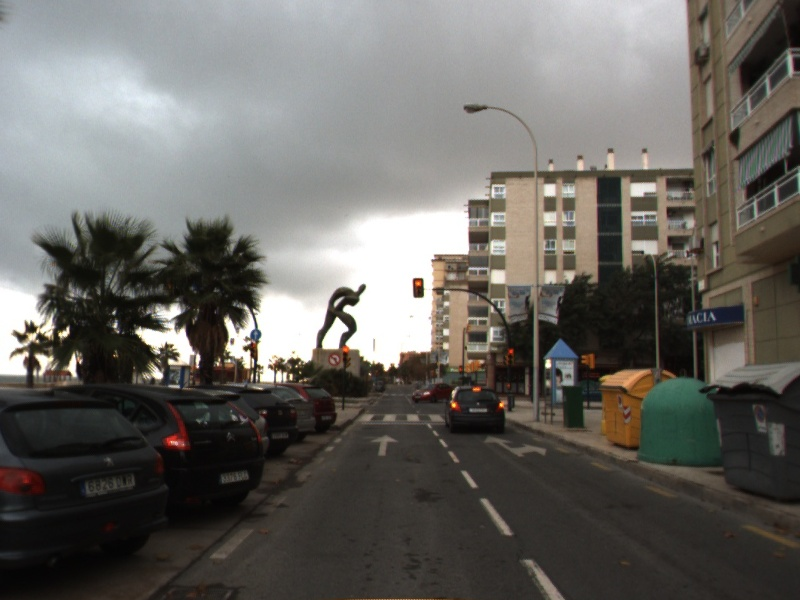STRAIGHT: (369, 433, 401, 457)
STRAIGHT_RIGHT: (482, 433, 548, 458)
